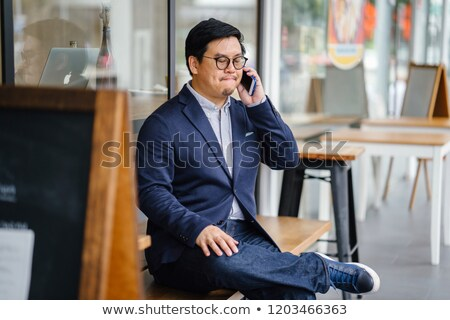phone: (239, 65, 262, 104)
talk: (214, 48, 269, 109)
